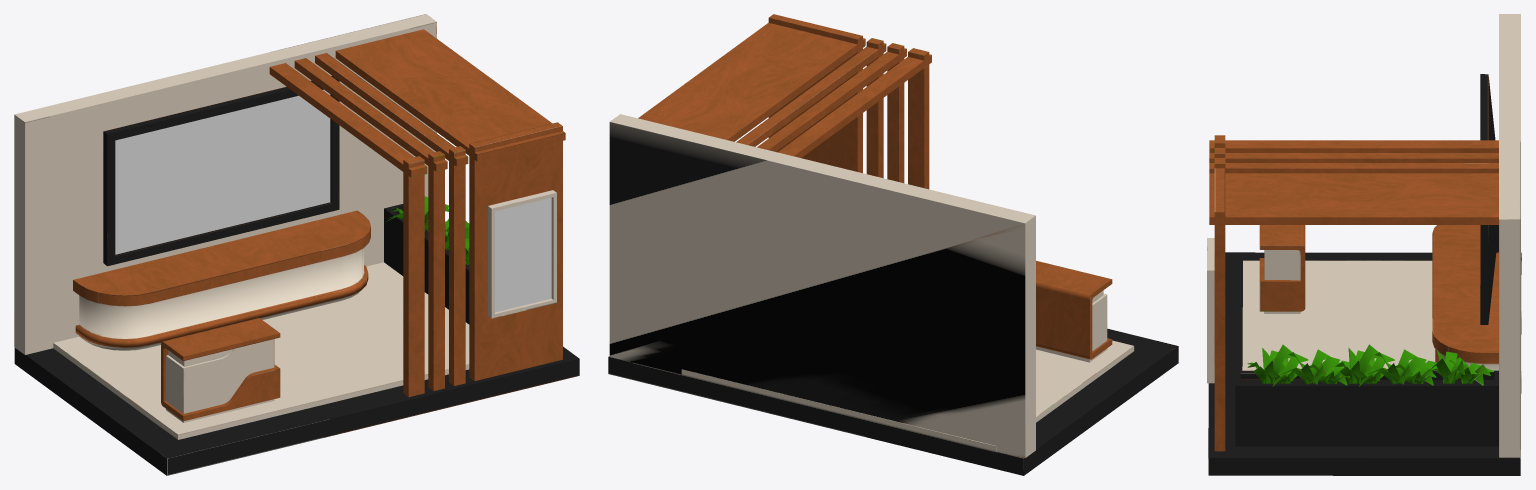
Rendered from stand2.glb.
3 views of the same model, side by side, from view 1: azimuth 30°, elevation 25°; view 2: azimuth 150°, elevation 25°; view 3: azimuth 270°, elevation 25° (orthographic). The views are drawn at different scales.
Parts seen in each view (by area): view 1: Plane.001, PanelVideo, PanelPoster; view 2: Plane.001; view 3: Plane.001.
Boxes of the visible parts, x1,y1,x2,y2 form: Plane.001: (14, 14, 579, 475); PanelVideo: (115, 89, 330, 254); PanelPoster: (495, 197, 551, 312); Plane.001: (608, 14, 1178, 475); Plane.001: (1207, 14, 1521, 475).
Size of what is drawn, in the model's own units: 11.55 by 6.7 by 7.45.
1 material, 1 textured.
